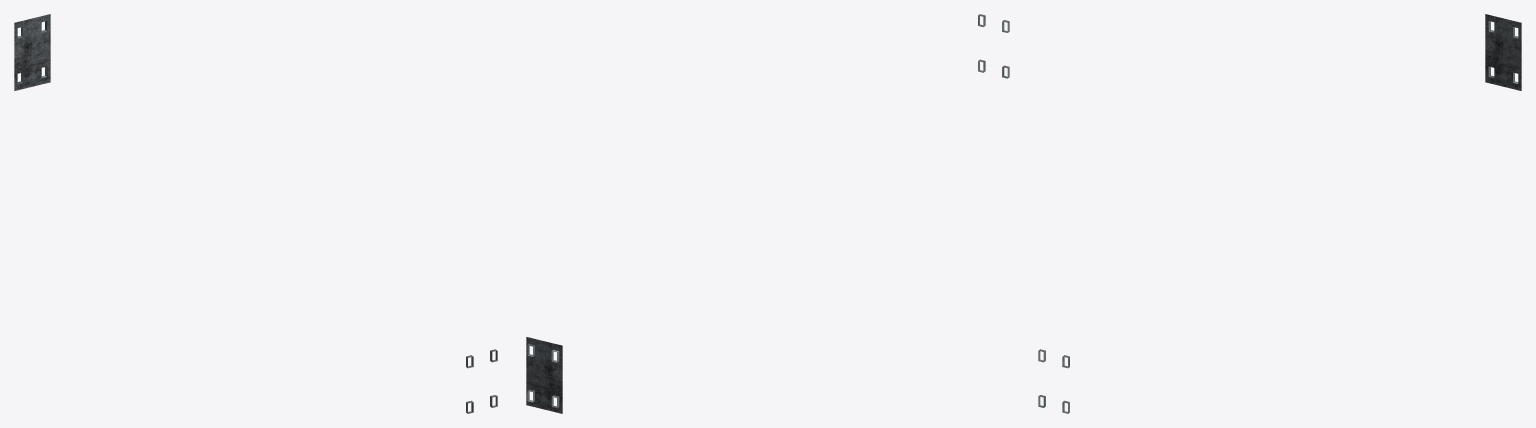
The model's file is minimalistic_modern_office_6.obj.
3 views of the same model, side by side, from view 1: azimuth 30°, elevation 25°; view 2: azimuth 150°, elevation 25°; view 3: azimuth 330°, elevation 25° (orthographic).
Bounding box in the file's own units: 0.3532 × 0.6358 × 7.63.
